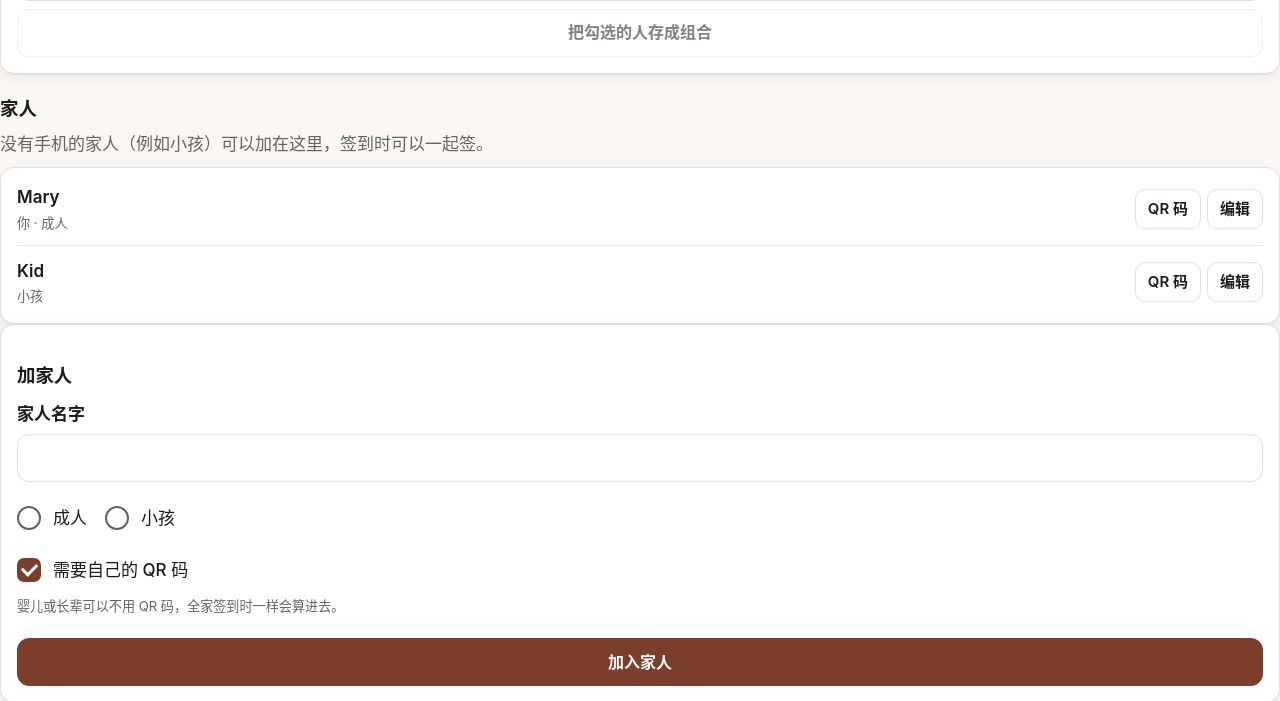
Test case: FamilyPage › requires name and adult/child choice before adding
The width and height of the screenshot is (1280, 701).
(page scrolled)
Click the button "加入家人".
click(640, 662)  # box 17,638 -> 1263,686
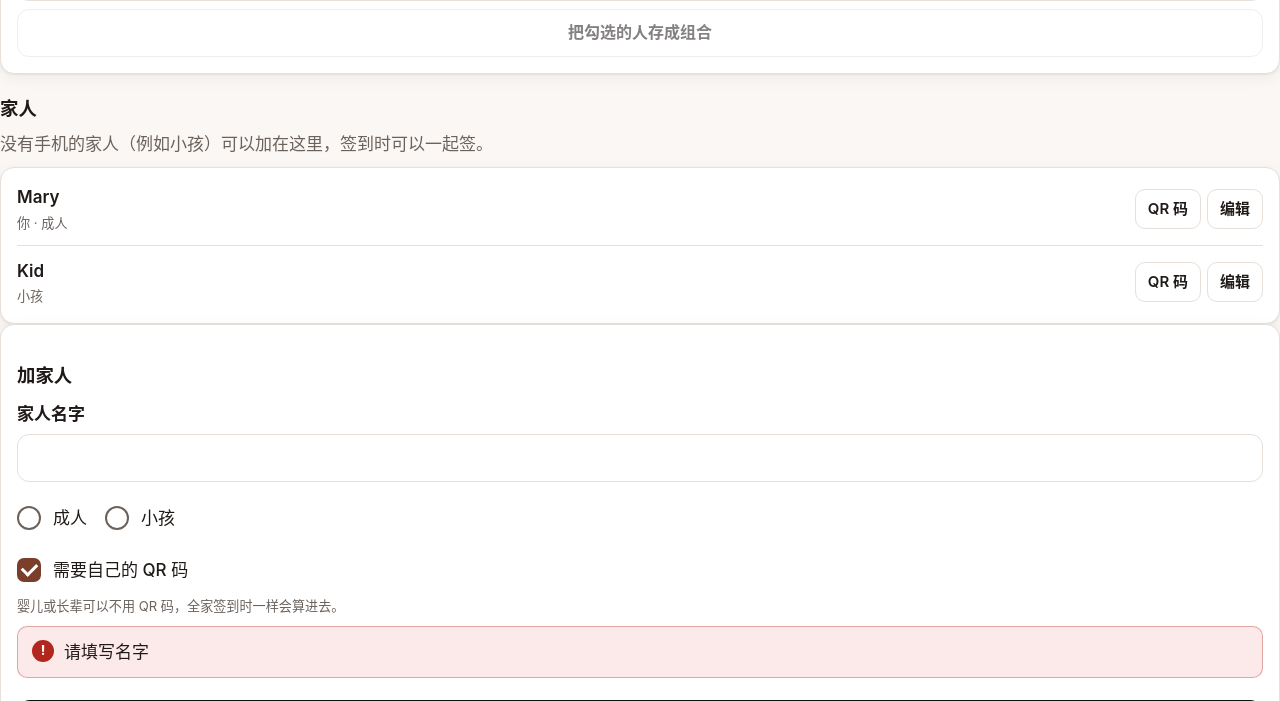
Type "Baby" into the field labelled "家人名字".
click(640, 458); type("Baby")  # box 17,434 -> 1263,482
(page scrolled)
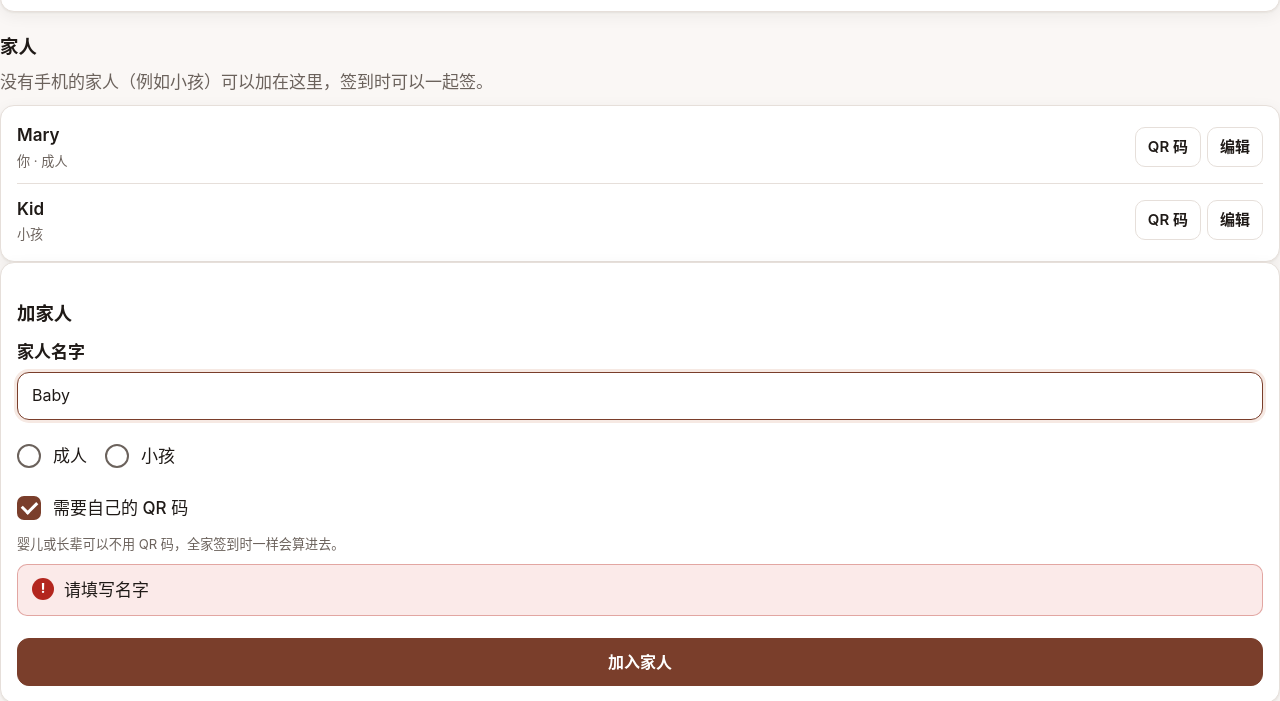
Click the button "加入家人".
click(640, 662)  # box 17,638 -> 1263,686
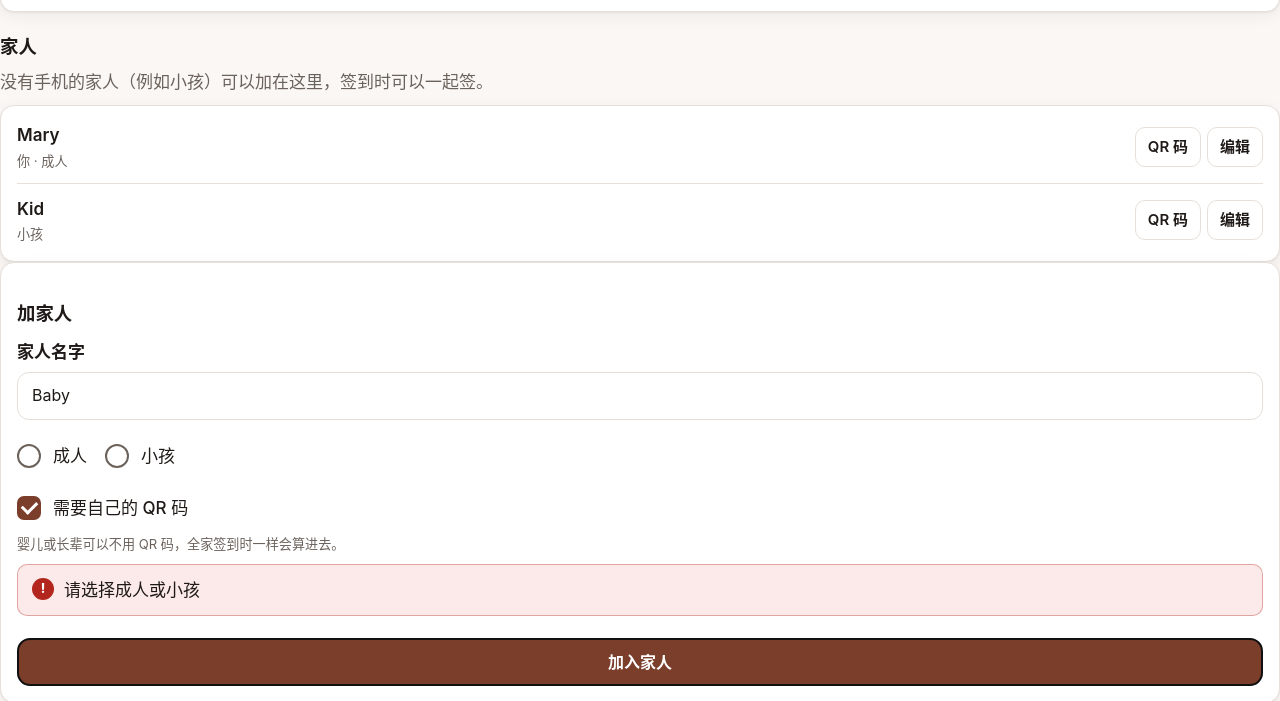
Result: the text "请选择成人或小孩" is shown at 17,564 -> 1263,616
